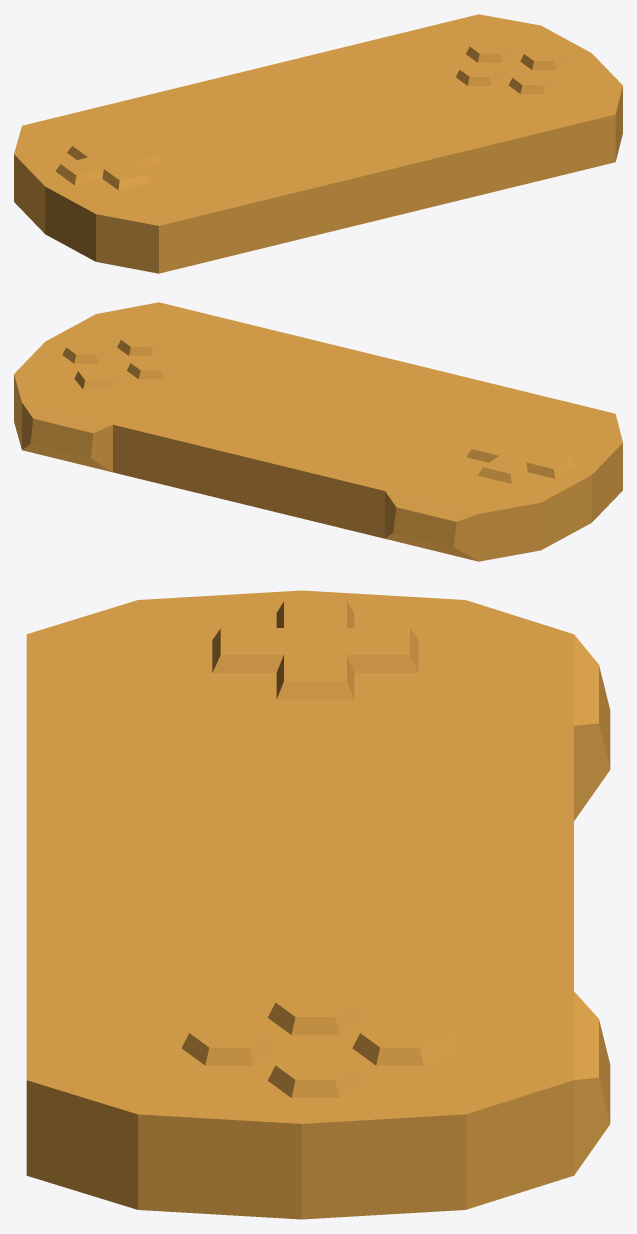
The model's file is electronics-console-handheld.glb.
The picture shows the model from 3 angles, top to bottom: view 1: azimuth 30°, elevation 25°; view 2: azimuth 150°, elevation 25°; view 3: azimuth 270°, elevation 25°; orthographic projection. The views are drawn at different scales.
Visible parts, largest first — view 1: console-handheld; view 2: console-handheld; view 3: console-handheld.
Part boxes in pixels (bbox=[...]): console-handheld: bbox=[14, 14, 622, 273]; console-handheld: bbox=[14, 302, 622, 561]; console-handheld: bbox=[26, 590, 610, 1219].
Size of the model in its own units: 0.225 by 0.0218 by 0.1041.
